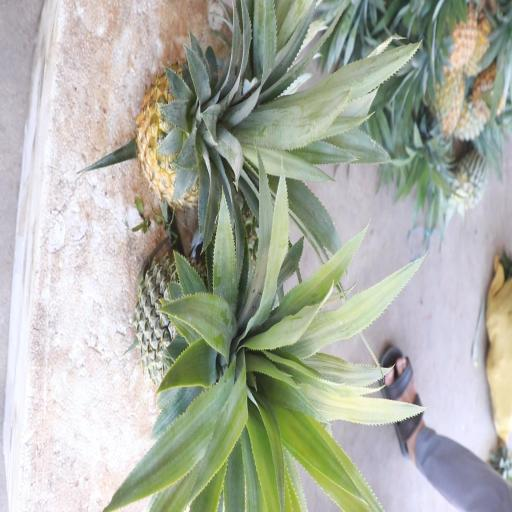Pineapple - v8 v1: (129, 57, 308, 213)
